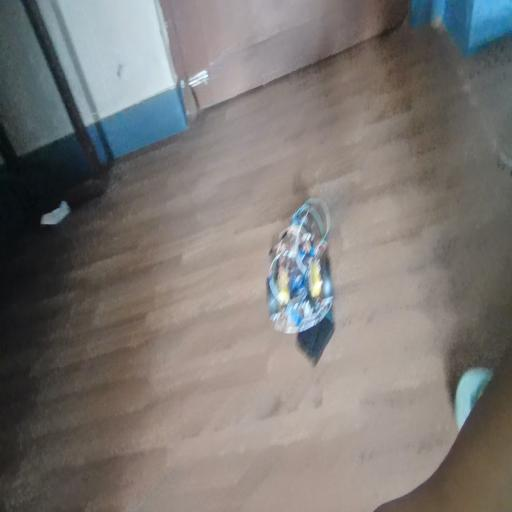car: (261, 241, 346, 345)
